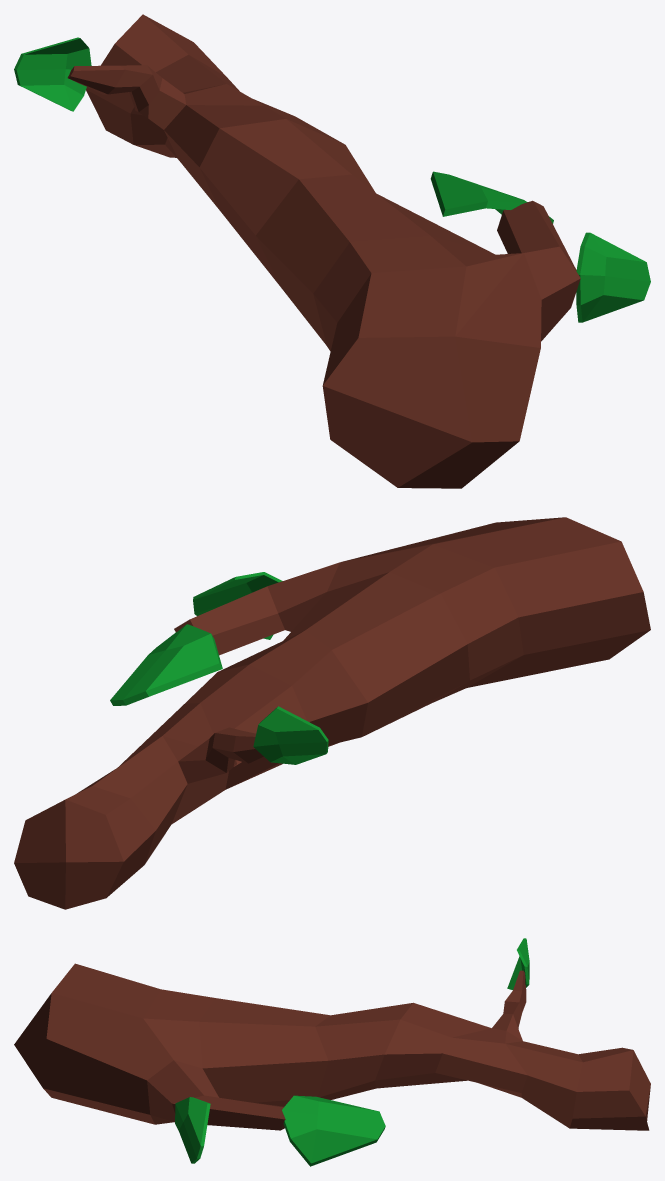
The model's file is Big_Branch.fbx.
3 views of the same model, one above another, from view 1: azimuth 30°, elevation 25°; view 2: azimuth 150°, elevation 25°; view 3: azimuth 270°, elevation 25° (orthographic). The views are drawn at different scales.
Visible parts, largest first — view 1: polySurface41; view 2: polySurface41; view 3: polySurface41.
Part boxes in pixels (x1,y1,x2,y2): polySurface41: [14, 14, 650, 488]; polySurface41: [14, 517, 650, 909]; polySurface41: [14, 938, 650, 1166].
Size of the model in its own units: 5.77 by 2.72 by 11.48.
